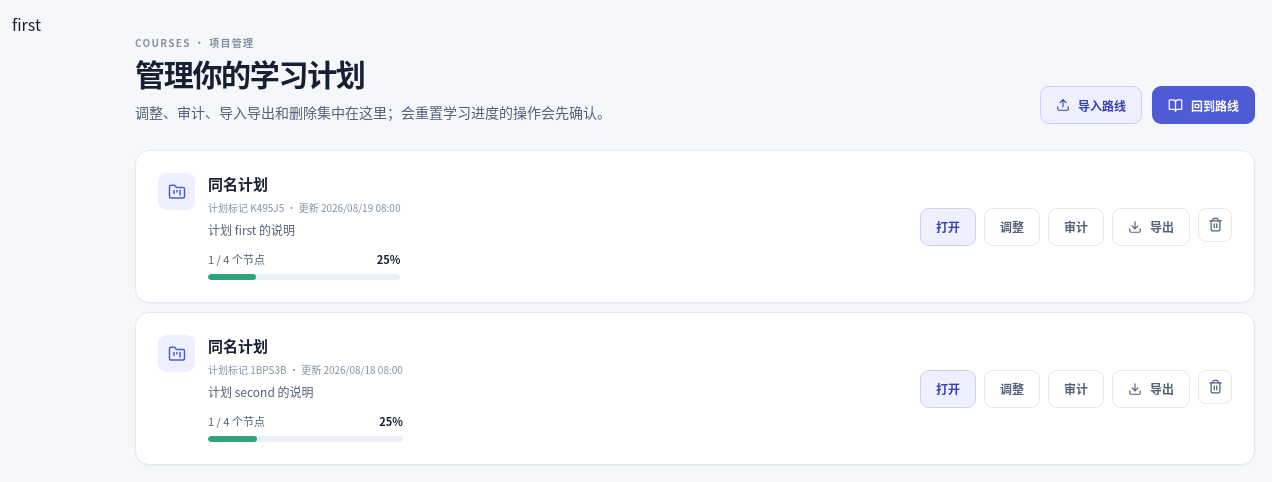
Scenario: current project selection › keeps the current selection when deleting a different plan
This screenshot has width=1272, height=482.
Click the 8th button. click: (1215,387)
box: [1198,370,1232,404]
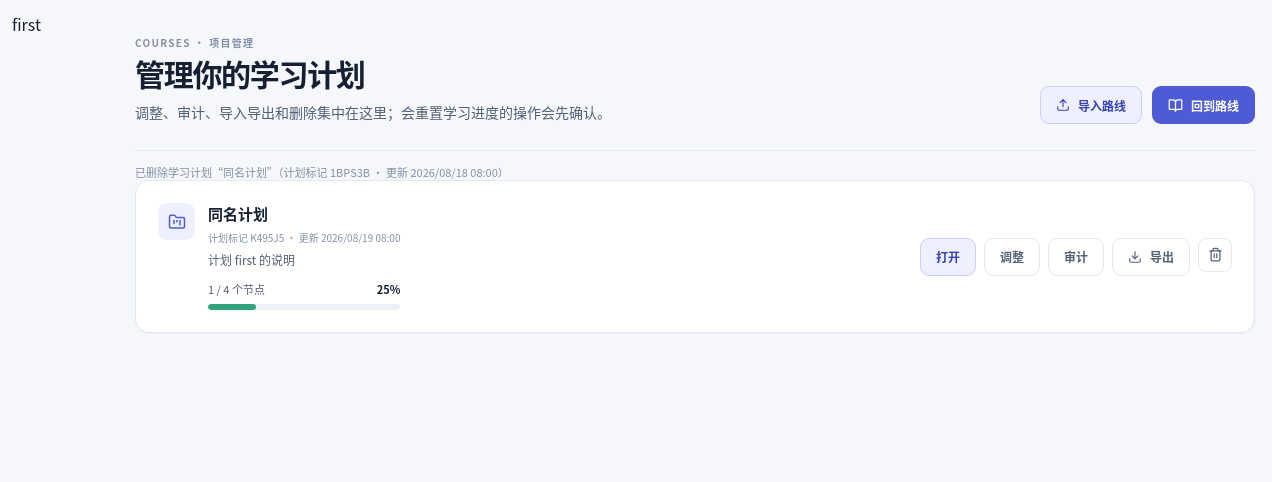
expect the text named "当前选择" reads "first": met, box [12,12,41,36]
expect the text "已删除学习计划“同名计划”" is shown: met, box [135,164,509,180]
